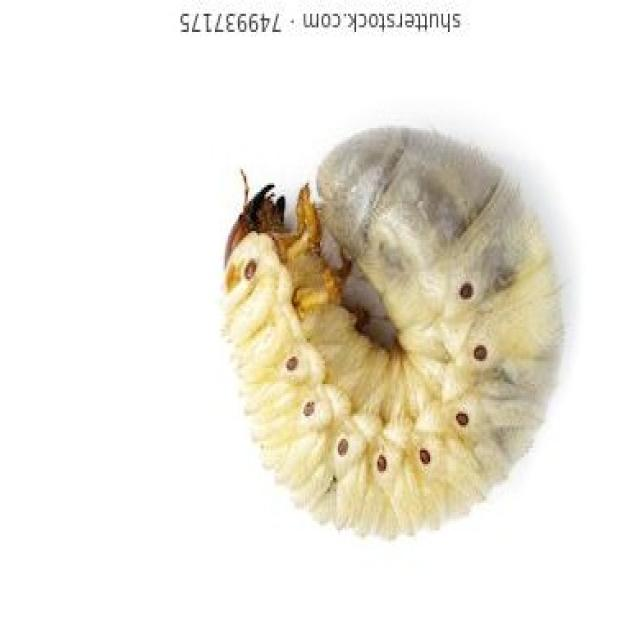grub: (226, 129, 567, 540)
